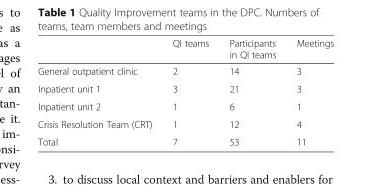table: (37, 37, 333, 147)
table column: (37, 37, 161, 147), (218, 37, 285, 147), (161, 37, 218, 147), (285, 37, 333, 147)
table column header: (37, 37, 333, 62)
table row: (37, 37, 333, 62), (37, 79, 333, 97), (37, 114, 333, 132), (37, 62, 333, 79), (37, 97, 333, 114), (37, 132, 333, 147)
